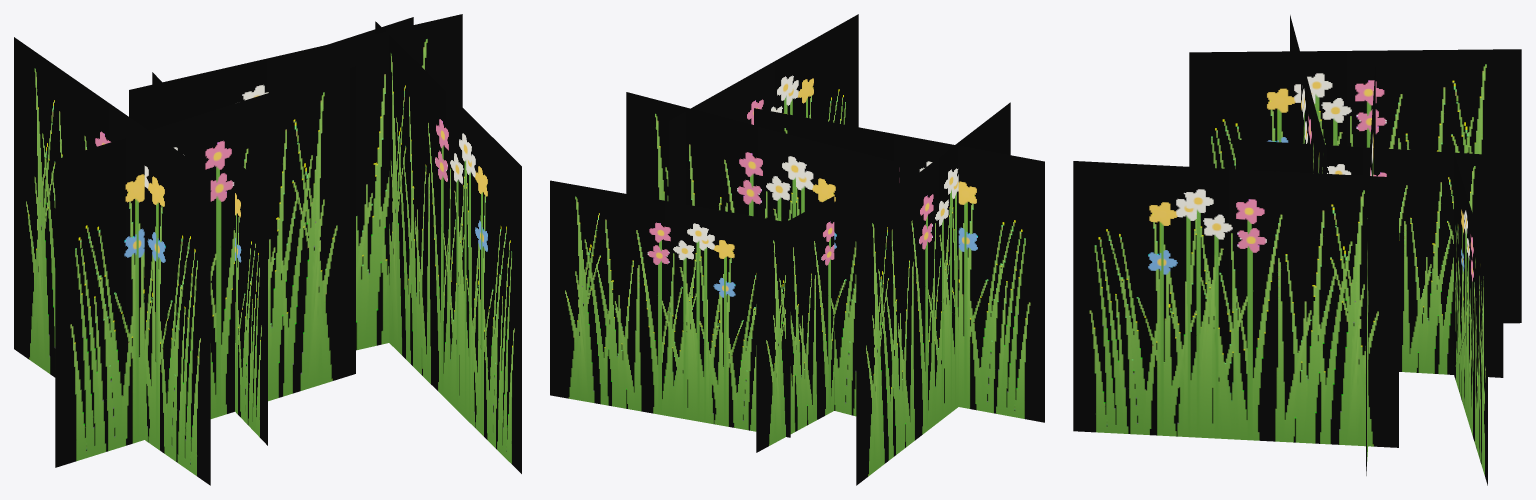
The model's file is plant_flowers_mixed.glb.
The picture shows the model from 3 angles, left to right: view 1: azimuth 30°, elevation 25°; view 2: azimuth 150°, elevation 25°; view 3: azimuth 270°, elevation 25°; orthographic projection. The views are drawn at different scales.
Visible parts, largest first — view 1: flowers; view 2: flowers; view 3: flowers.
Boxes of the visible parts, x1=… form: flowers: x1=14, y1=14, x2=521, y2=485; flowers: x1=550, y1=14, x2=1044, y2=485; flowers: x1=1073, y1=15, x2=1521, y2=485.
Bounding box in the file's own units: 0.8443 × 0.5349 × 0.7932.
1 material, 1 textured.
